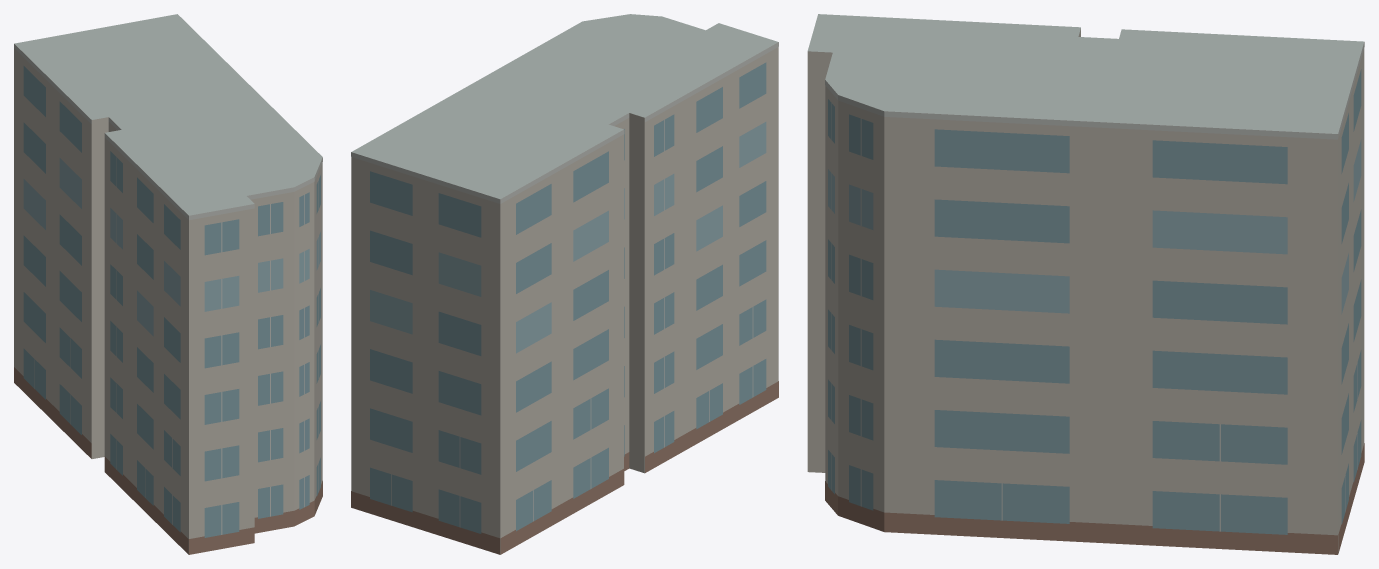
File: survey-upis-32929834.glb
The picture shows the model from 3 angles, left to right: view 1: azimuth 30°, elevation 25°; view 2: azimuth 150°, elevation 25°; view 3: azimuth 270°, elevation 25°; orthographic projection. The views are drawn at different scales.
Parts seen in each view (by area): view 1: survey-upis-32929834.tmp; view 2: survey-upis-32929834.tmp; view 3: survey-upis-32929834.tmp.
Part boxes in pixels (bbox=[...]): survey-upis-32929834.tmp: bbox=[14, 14, 322, 554]; survey-upis-32929834.tmp: bbox=[351, 14, 778, 554]; survey-upis-32929834.tmp: bbox=[807, 14, 1364, 554].
Bounding box in the file's own units: 11.21 × 18.3 × 21.96.
